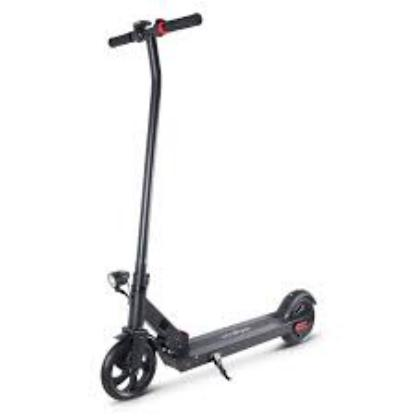bike: (95, 7, 319, 401), (101, 270, 318, 402)
